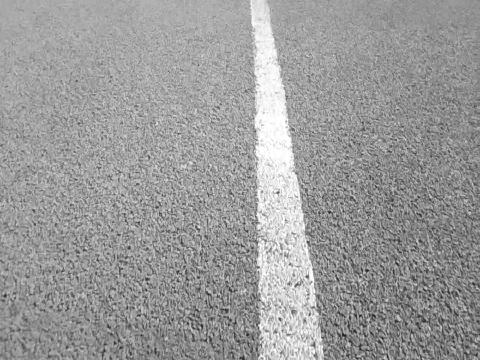Lines: (250, 0, 326, 360)
